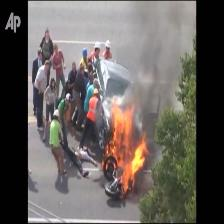fire: (103, 104, 152, 194)
